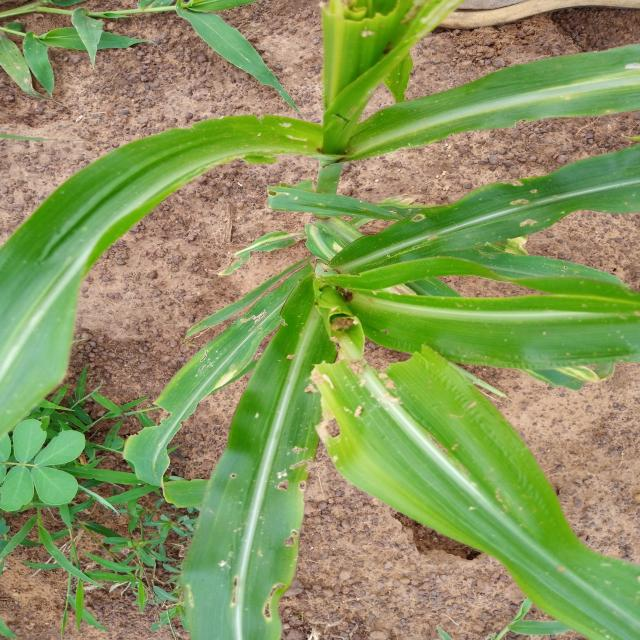fall-armyworm-egg: (297, 348, 414, 429), (350, 0, 433, 85), (501, 187, 608, 239)
fall-armyworm-larval-damage: (90, 372, 238, 508), (263, 248, 419, 344), (242, 492, 320, 640)
